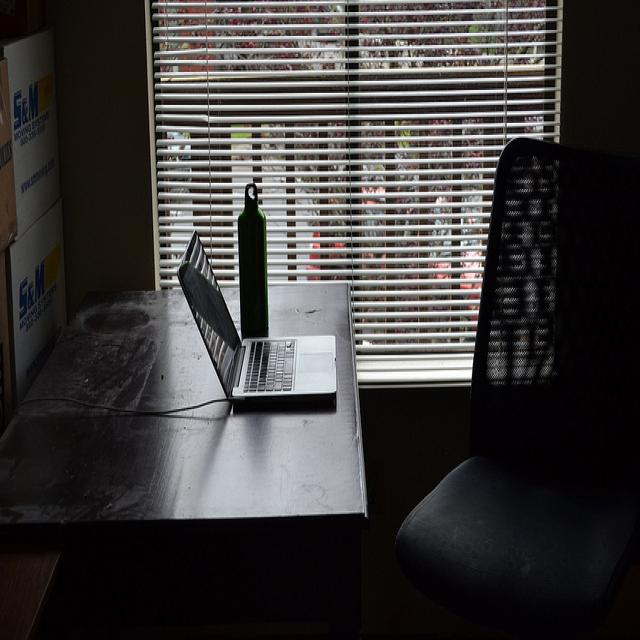Bottle: (239, 180, 278, 378)
Table: (0, 245, 368, 611)
chair: (391, 124, 640, 637)
